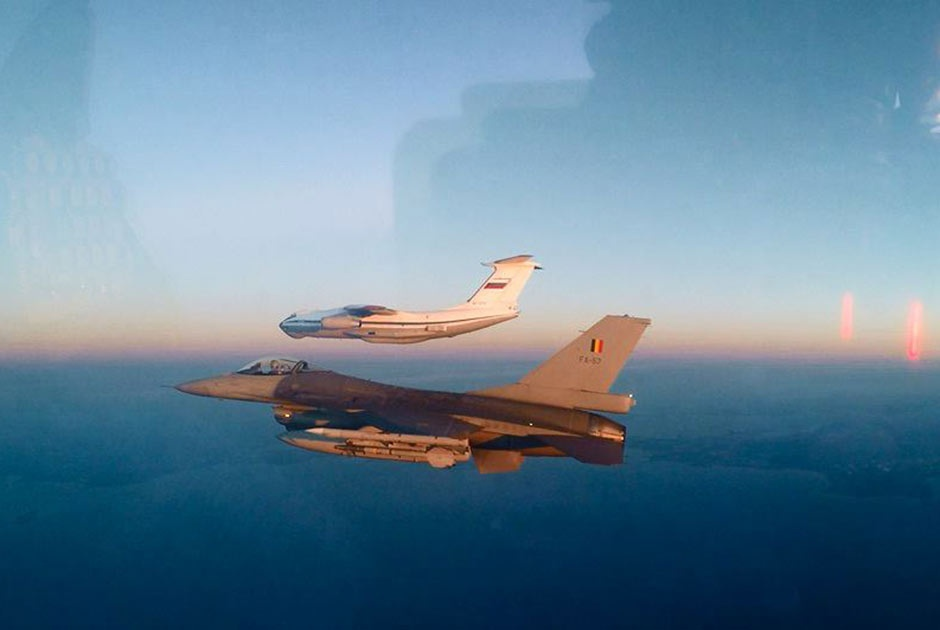airplane: (161, 312, 650, 466), (273, 247, 547, 348)
